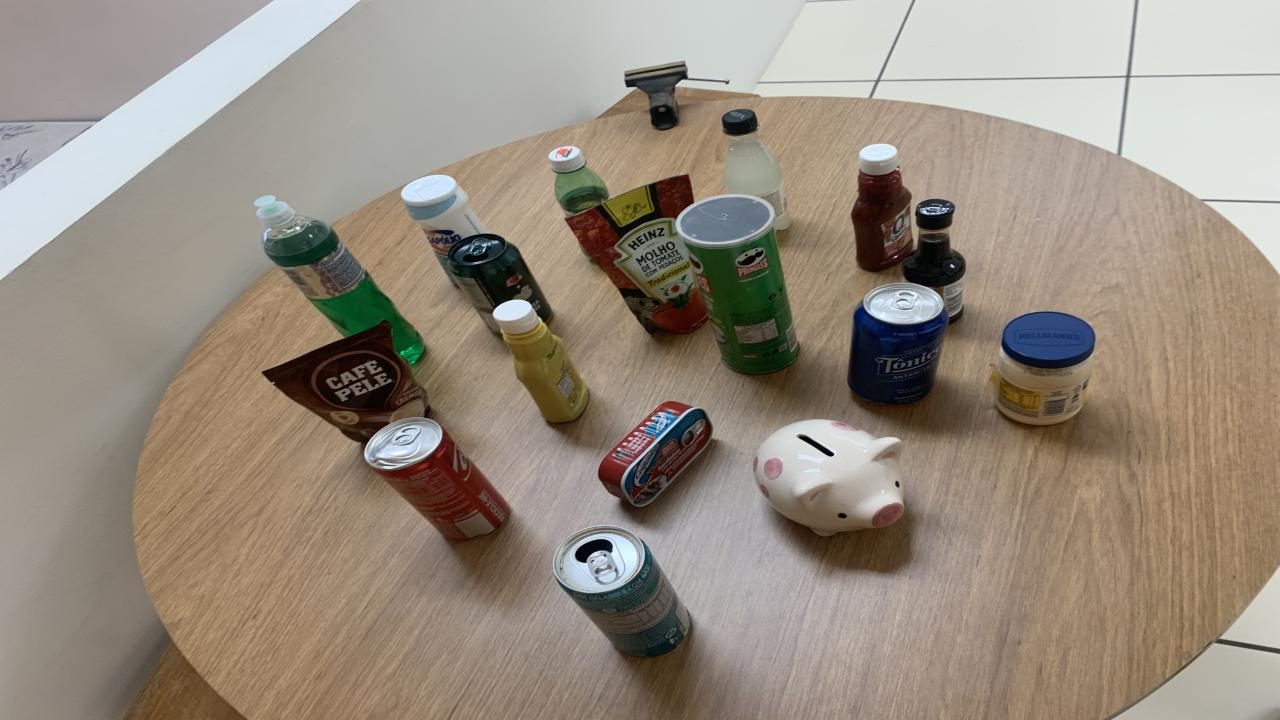Cleaner-Cleanup_Items: (400, 174, 488, 283)
Coffee-Pantry_Items: (262, 322, 430, 442)
Coke-Drinks: (365, 418, 510, 540)
Detergent-Cleanup_Items: (255, 197, 425, 364)
English_Sauce-Pantry_Items: (902, 199, 965, 322)
Guarana-Drinks: (550, 146, 610, 216)
Guarana_Can-Drinks: (448, 232, 552, 334)
Ketchup-Pantry_Items: (850, 144, 912, 270)
Mayonnaise-Pantry_Items: (990, 311, 1095, 426)
Mustard-Pantry_Items: (492, 300, 590, 424)
Pig_Safe-Miscellaneous: (752, 420, 905, 536)
Pringles-Snacks: (675, 193, 798, 373)
Soda-Drinks: (722, 109, 790, 231)
Tea-Drinks: (552, 527, 690, 656)
Tomato_Sauce-Pantry_Items: (565, 174, 708, 334)
Tonic-Drinks: (848, 283, 948, 405)
Tuna_Can-Pantry_Items: (752, 420, 905, 536), (598, 401, 712, 506)
